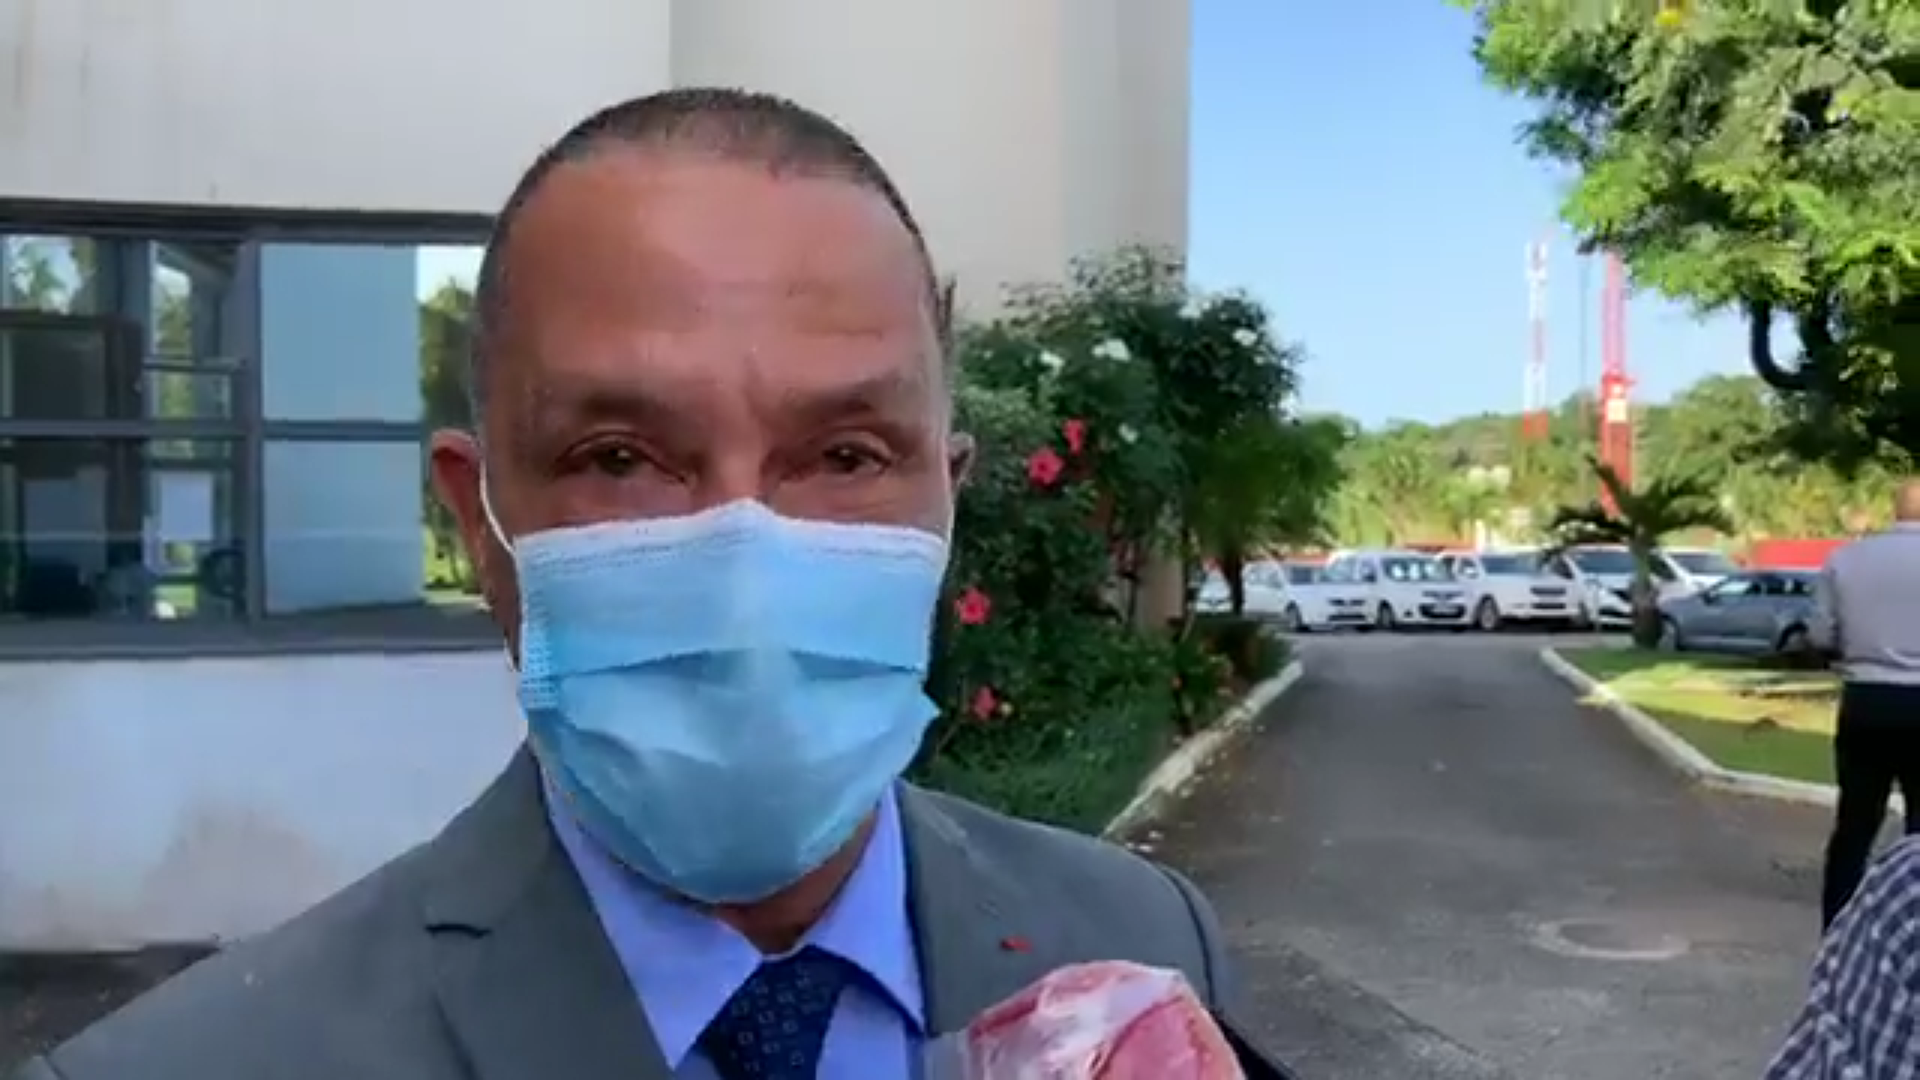with_mask: (532, 265, 914, 765)
